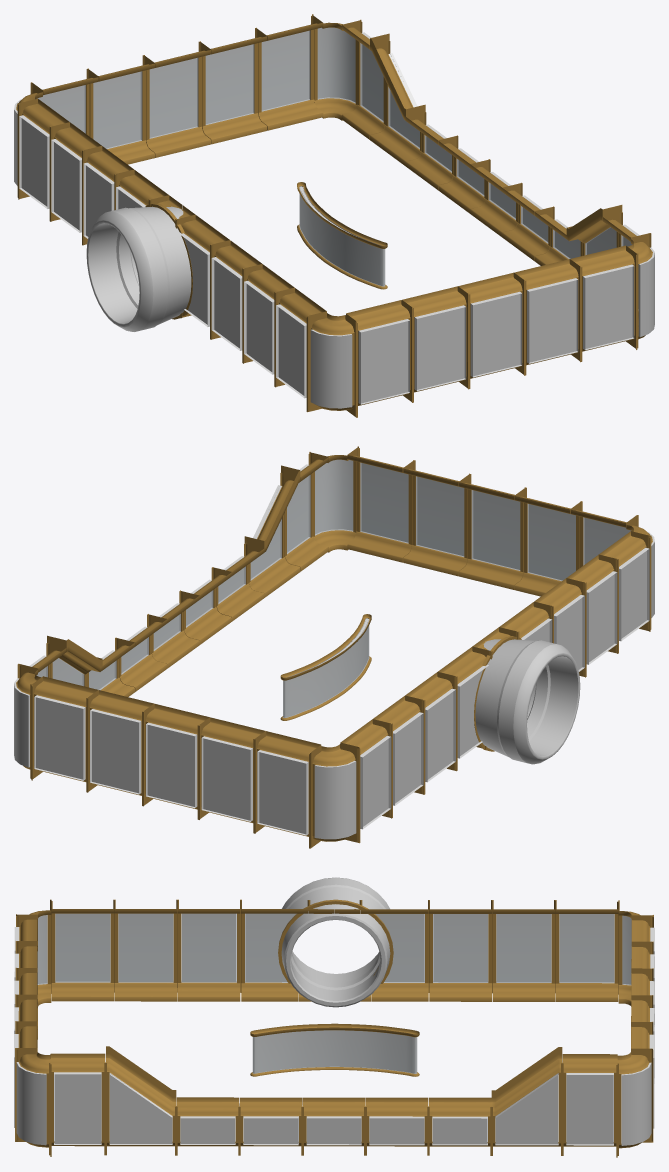
Rendered from SmallBuildingInterior_Fixed.fbx.
3 views of the same model, one above another, from view 1: azimuth 30°, elevation 25°; view 2: azimuth 150°, elevation 25°; view 3: azimuth 270°, elevation 25° (orthographic). The views are drawn at different scales.
Parts seen in each view (by area): view 1: Cube.033; view 2: Cube.033; view 3: Cube.033.
Boxes of the visible parts, x1,y1,x2,y2 form: Cube.033: (14, 14, 654, 417); Cube.033: (14, 446, 654, 848); Cube.033: (14, 877, 654, 1157).
Bounding box in the file's own units: 8143 × 2299 × 11777.
